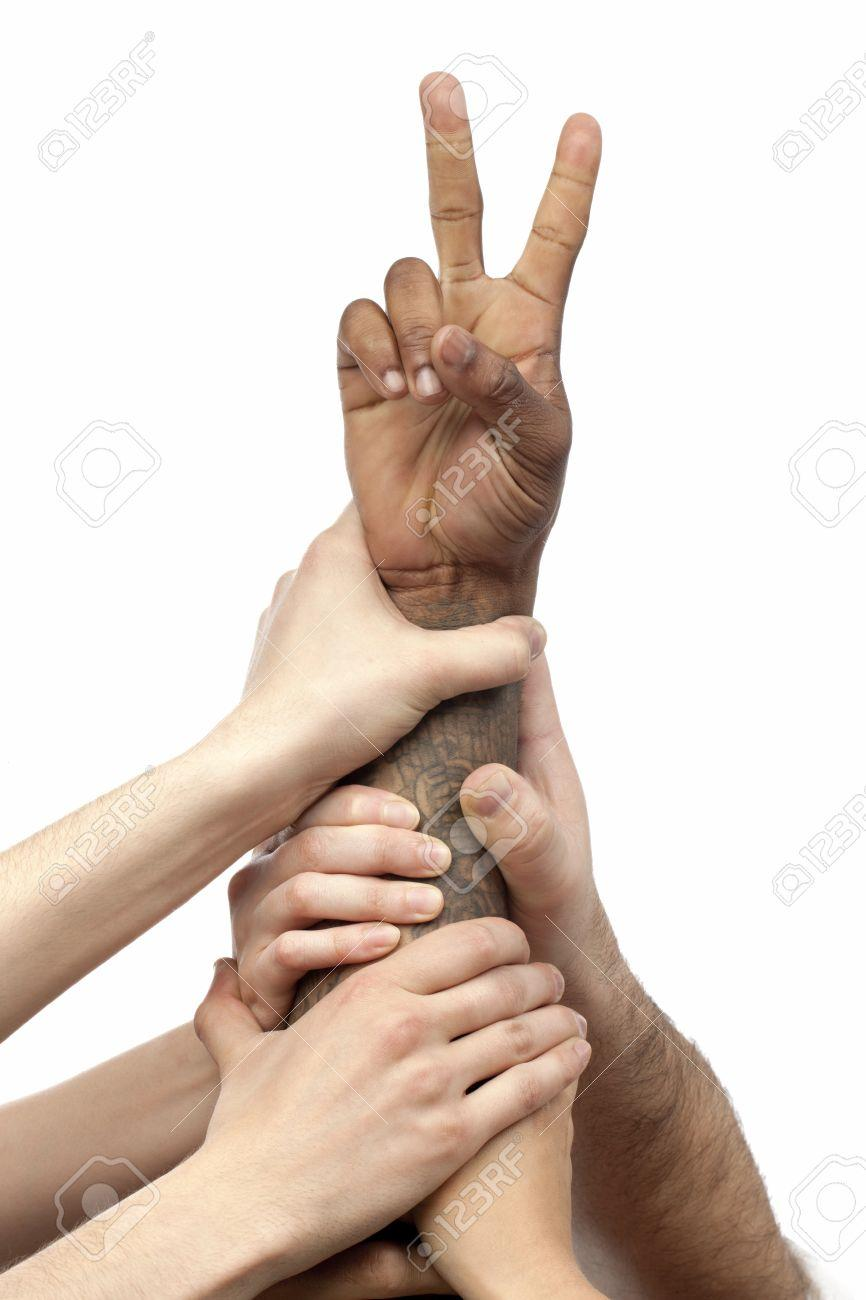peace_sign: (321, 56, 611, 596)
